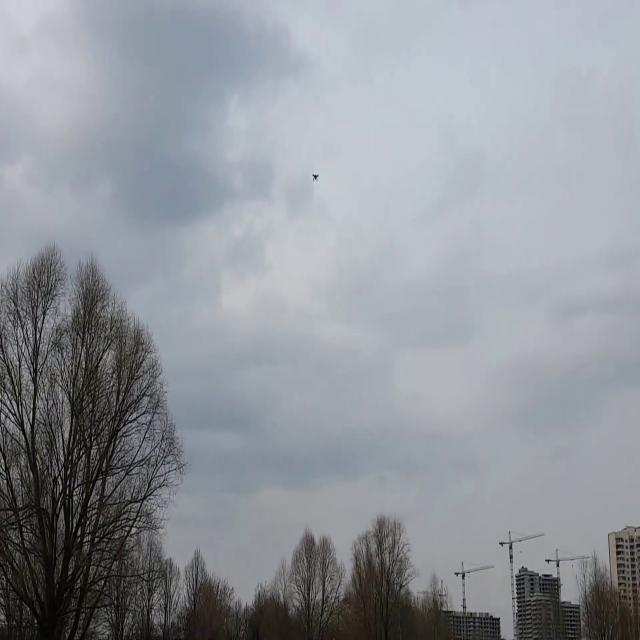Drons: (308, 172, 321, 184)
